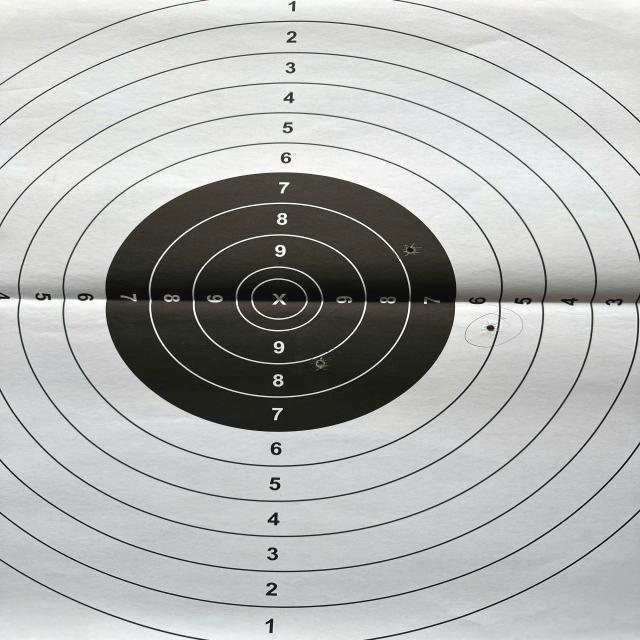bullet: (404, 244, 416, 252), (484, 324, 496, 332), (316, 360, 324, 371)
